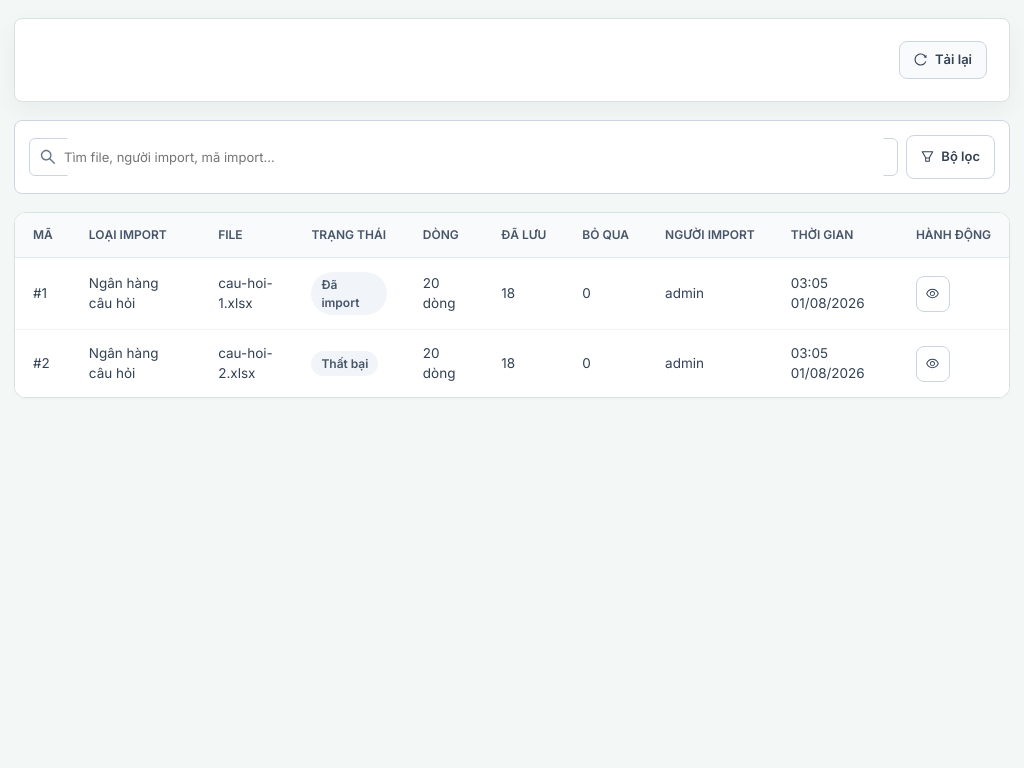
Scenario: EvaluationImportHistoryPage - chi tiết import › hiện thông báo khi chi tiết không có dòng nào
Check: the text "#1" is shown, box [15,258,71,330]
Click the button titled "Xem chi tiết" in the row of "cau-hoi-1.xlsx": (933, 294) [916,276,950,312]
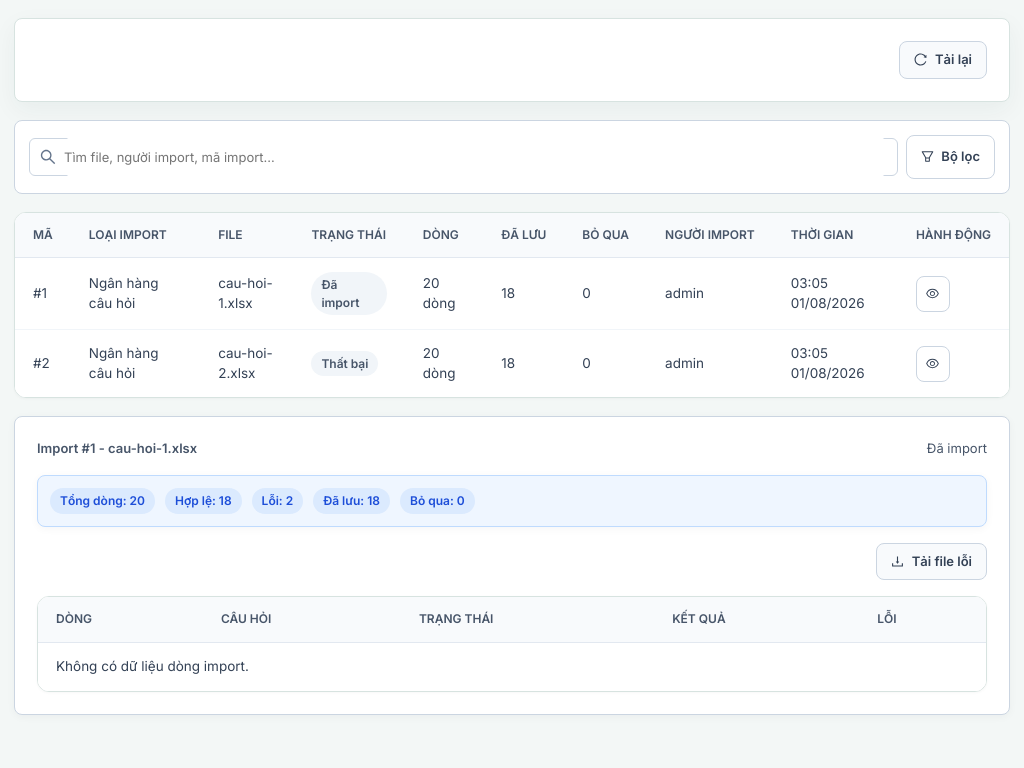
Check: the text "Import #1 - cau-hoi-1.xlsx" is shown, box [37,439,197,459]
Check: the text "Không có dữ liệu dòng import." is shown, box [38,642,986,691]
